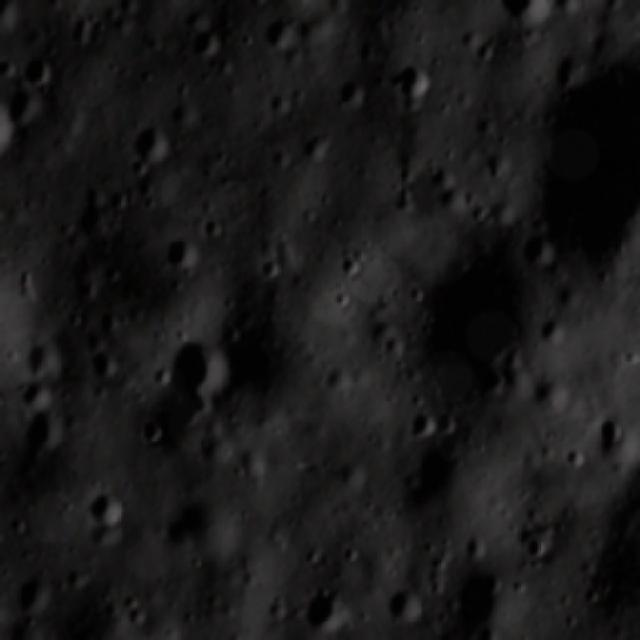crater: (524, 60, 638, 252), (424, 258, 542, 394), (160, 330, 238, 390), (451, 575, 506, 636), (296, 589, 359, 636), (17, 406, 71, 456), (167, 390, 222, 432), (391, 60, 438, 106), (378, 586, 429, 628), (15, 341, 70, 379), (12, 574, 58, 618), (16, 376, 62, 416), (423, 433, 466, 475), (255, 14, 296, 58), (83, 488, 129, 526), (298, 125, 338, 167), (519, 232, 561, 271), (5, 84, 43, 127), (158, 234, 202, 271), (18, 46, 54, 91), (594, 413, 629, 459), (130, 127, 167, 167), (339, 75, 373, 117), (164, 95, 207, 127), (467, 33, 504, 69), (191, 24, 227, 59), (404, 407, 438, 444), (332, 249, 368, 282), (320, 364, 357, 396), (380, 328, 414, 362), (536, 317, 573, 348), (477, 148, 511, 181), (90, 348, 121, 382), (62, 563, 95, 594), (313, 0, 352, 26), (254, 253, 284, 284), (198, 212, 231, 240), (432, 404, 462, 434), (134, 416, 161, 449), (523, 533, 551, 564), (466, 112, 497, 140), (265, 592, 289, 626), (327, 285, 355, 313), (564, 444, 590, 473), (402, 282, 432, 307), (95, 308, 122, 335), (127, 604, 153, 630), (118, 588, 142, 609)
